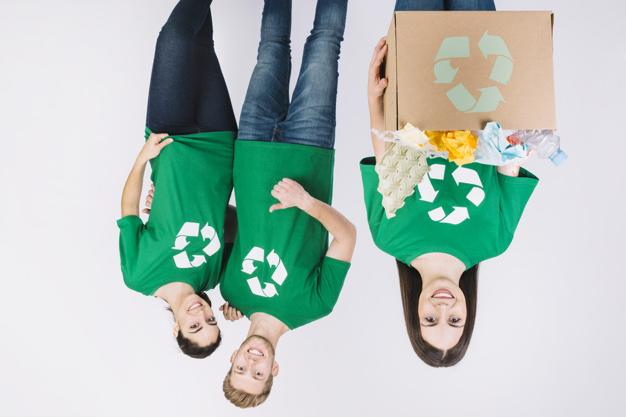thumbsdown: (268, 178, 295, 212)
